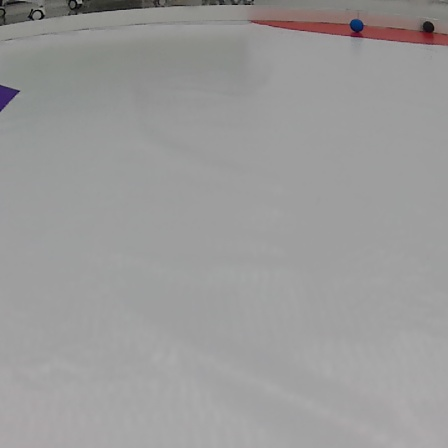black: (423, 21, 434, 32)
blue: (348, 18, 365, 36)
red_base: (251, 17, 448, 48)
